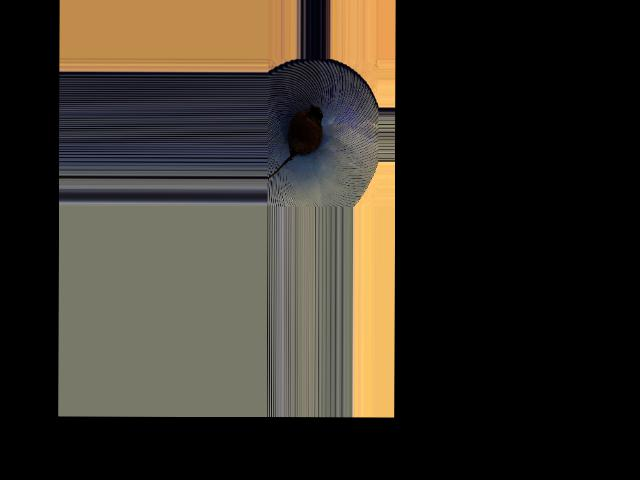beet: (266, 104, 322, 178)
